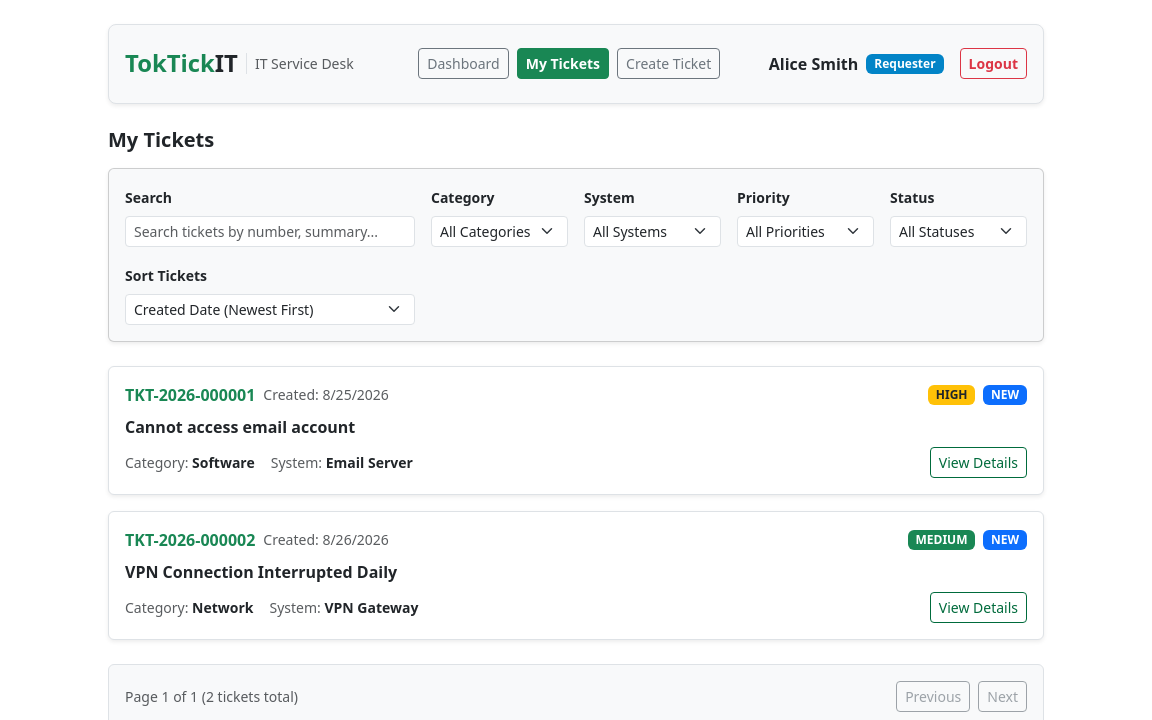
it: Issue #29: My Tickets & Ticket Detail Requester UI Suite › 5. Ticket Detail Screen & Ownership Verification (FR-06, BR-05, AC-03, AC-06) › renders safe 404 'Ticket not found' error page when opening non-owned or missing ticket ID
Check: the button "My Tickets" is shown, box [517,48,609,79]
Click the button "View Details" in the row of "Email Server": (978,462) [930,447,1027,478]
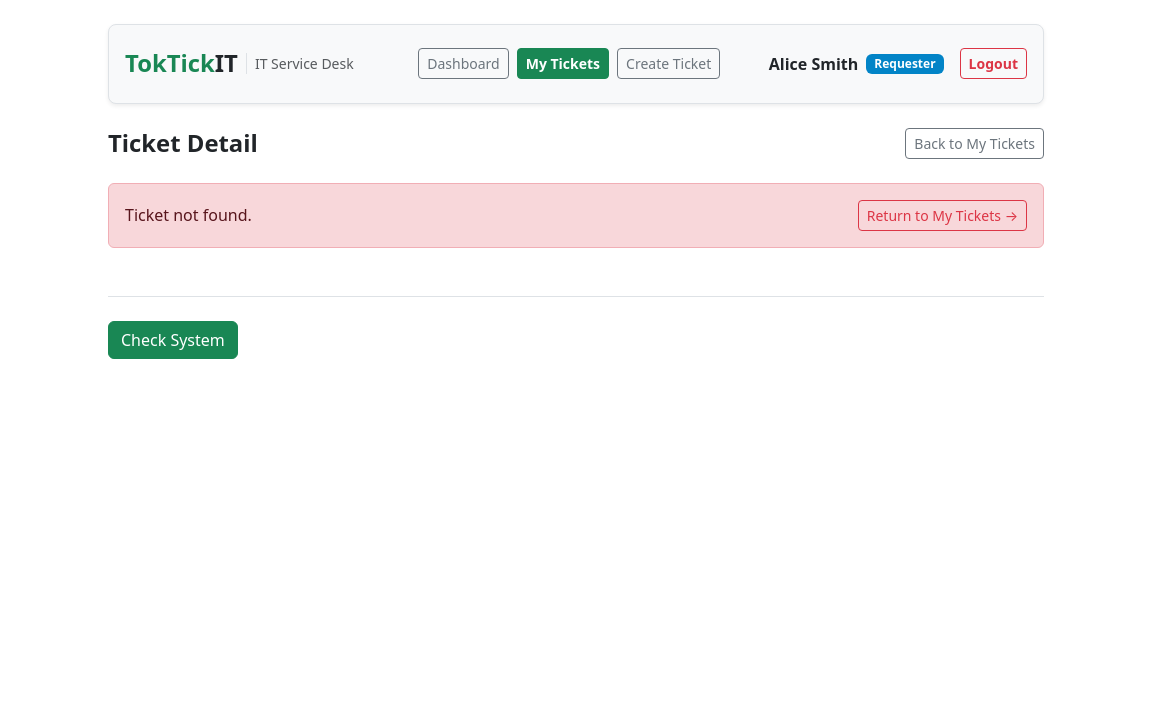
Check: the text "Ticket not found." is shown, box [125,203,252,227]
Check: the button "Back to My Tickets" is shown, box [905,128,1044,159]
Check: the button "Return to My Tickets →" is shown, box [858,200,1027,231]
